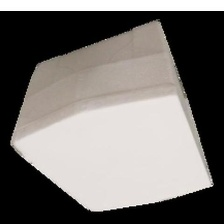foam_box: (7, 16, 216, 215)
